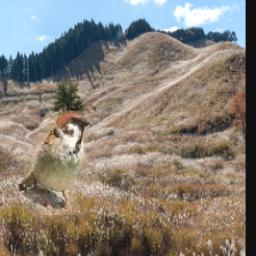Sparrow: (19, 111, 89, 215)
